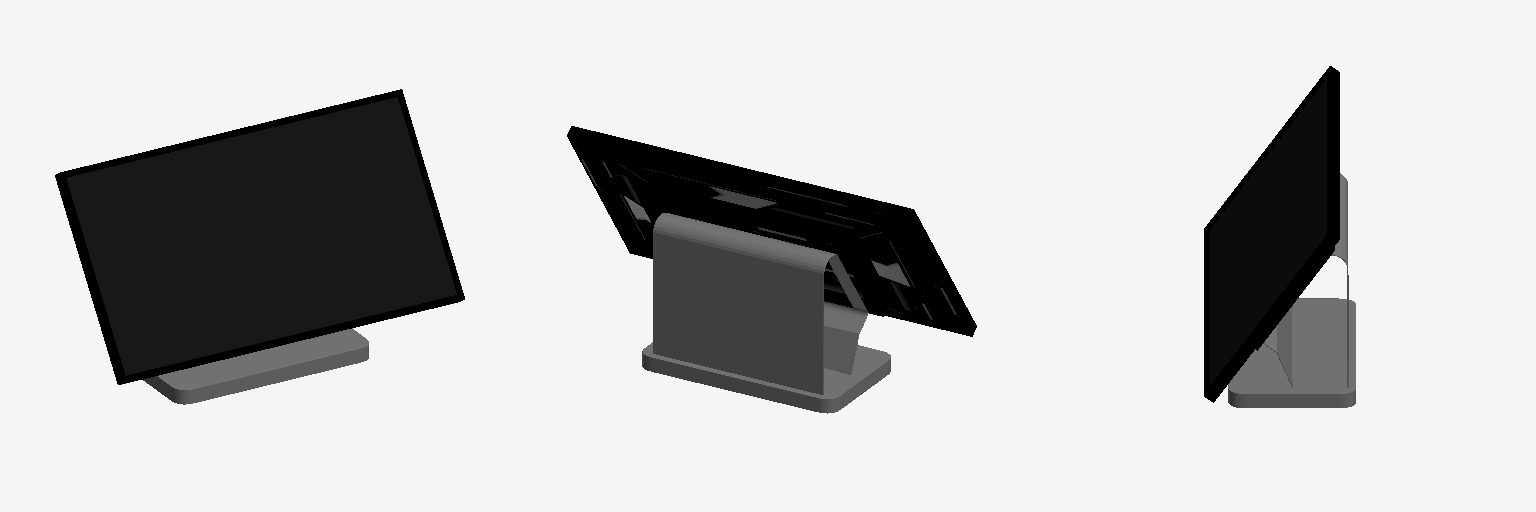
The picture shows the model from 3 angles: view 1: azimuth 30°, elevation 25°; view 2: azimuth 150°, elevation 25°; view 3: azimuth 270°, elevation 25°; orthographic projection.
Parts seen in each view (by area): view 1: screen, Box001, archmodels95_036_005; view 2: Box001, archmodels95_036_004, archmodels95_036_005; view 3: screen, archmodels95_036_005, Box001, archmodels95_036_004.
Boxes of the visible parts, <box> form: screen: <box>66,97,456,375</box>; Box001: <box>55,89,464,384</box>; archmodels95_036_005: <box>143,328,368,404</box>; Box001: <box>567,126,976,336</box>; archmodels95_036_004: <box>653,213,867,394</box>; archmodels95_036_005: <box>642,342,890,413</box>; screen: <box>1210,79,1326,384</box>; archmodels95_036_005: <box>1228,298,1355,407</box>; Box001: <box>1204,66,1339,402</box>; archmodels95_036_004: <box>1263,173,1348,387</box>.
Size of the model in its own units: 9.46 by 5.65 by 3.66.
3 materials, 1 textured.